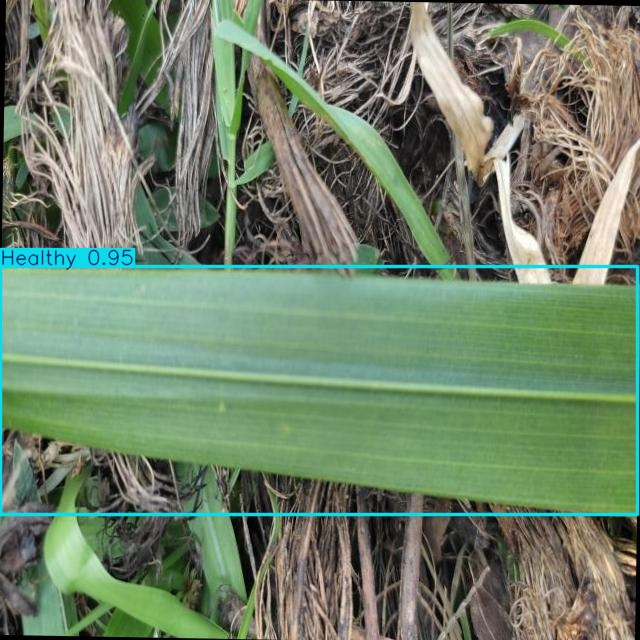Healthy: (0, 266, 638, 515)
